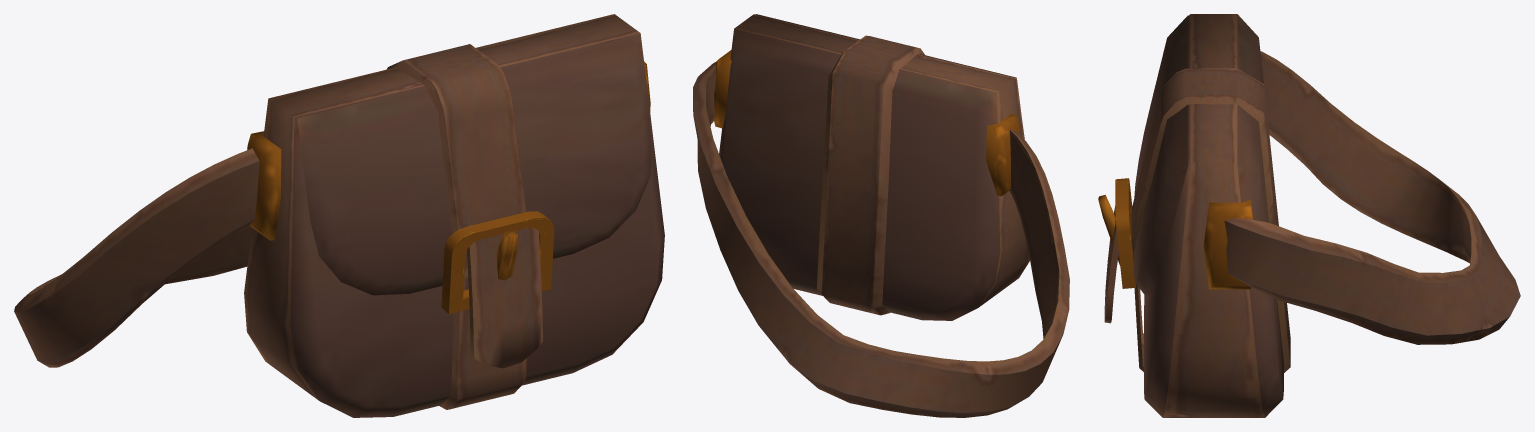
Rendered from Pouch_Small.gltf.
3 views of the same model, side by side, from view 1: azimuth 30°, elevation 25°; view 2: azimuth 150°, elevation 25°; view 3: azimuth 270°, elevation 25° (orthographic). The views are drawn at different scales.
Visible parts, largest first — view 1: Pouch_Small; view 2: Pouch_Small; view 3: Pouch_Small.
Part boxes in pixels (bbox=[...]): Pouch_Small: bbox=[14, 14, 664, 417]; Pouch_Small: bbox=[693, 14, 1069, 417]; Pouch_Small: bbox=[1098, 14, 1520, 417].
Size of the model in its own units: 0.2234 by 0.1264 by 0.1674.
Materials: 2 (2 with a texture image).
